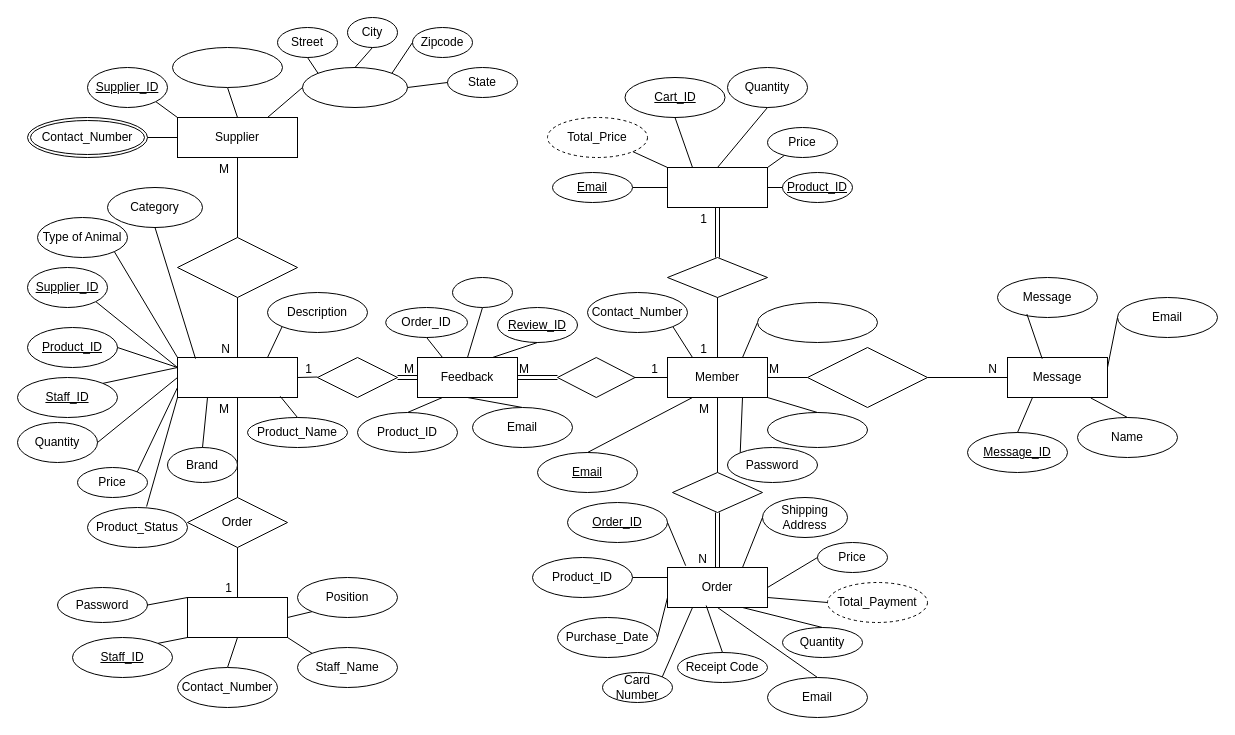
The diagram is 1235 pixels wide and 735 high, and some of its shapes have lost their labels. The shapes that lost their labels are listed below. From the top down, each one's box as (x1, y1, x2, y2) in pixels, then its label:
(172, 46, 282, 88): Supplier_Name
(302, 66, 408, 108): Supplier_Address
(666, 166, 768, 208): Shopping_Cart
(176, 236, 298, 298): Supplies
(666, 256, 768, 298): Add
(452, 276, 512, 308): Review
(756, 302, 878, 342): Member_Address
(176, 356, 298, 398): Product
(316, 356, 398, 398): Contains
(556, 356, 635, 398): Give
(806, 346, 928, 408): Send
(766, 412, 868, 448): Member_Name
(672, 472, 762, 512): Place
(186, 596, 288, 638): Staff
